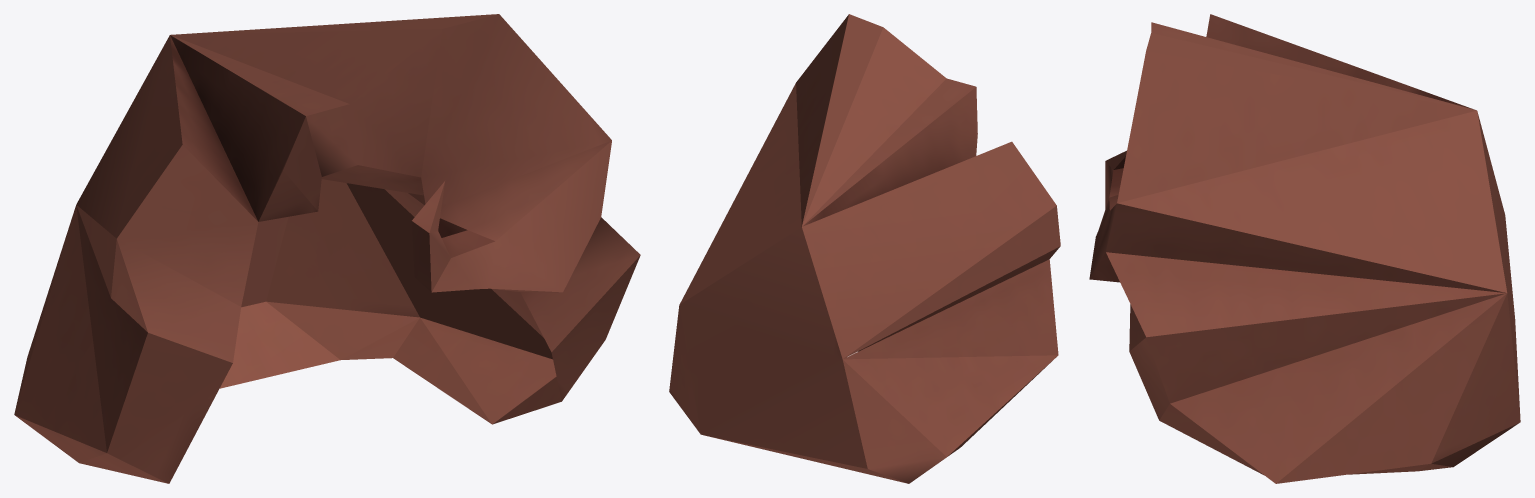
File: Women Hair.FBX
3 renders of one model, left to right at view 1: azimuth 30°, elevation 25°; view 2: azimuth 150°, elevation 25°; view 3: azimuth 270°, elevation 25°, orthographic. The views are drawn at different scales.
Visible parts, largest first — view 1: Women Hair; view 2: Women Hair; view 3: Women Hair.
Part boxes in pixels (x1,y1,x2,y2): Women Hair: (14, 14, 640, 483); Women Hair: (669, 14, 1060, 483); Women Hair: (1089, 14, 1520, 483).
Bounding box in the file's own units: 315 × 282 × 292.
Materials: 1 (1 with a texture image).
